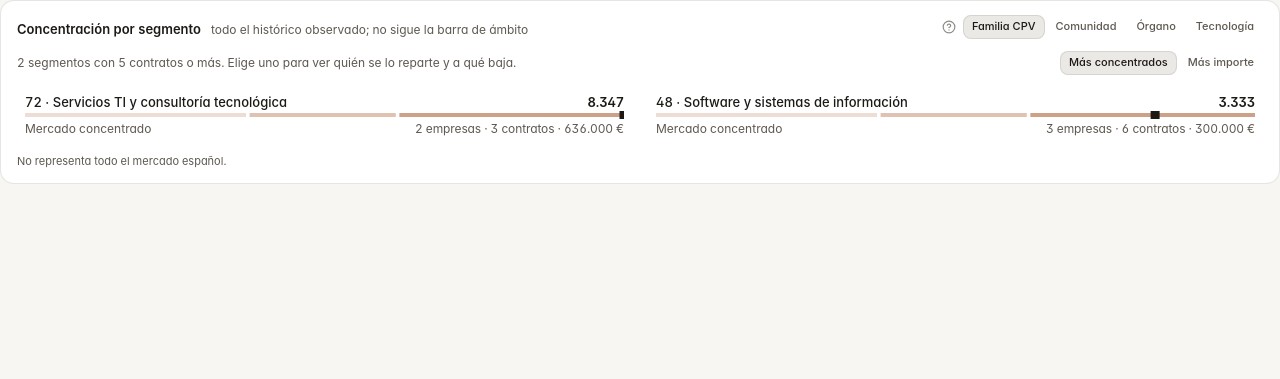
Test: Concentración por segmento › al elegir un segmento enseña quién se lo reparte y a qué baja se gana
The image size is (1280, 379).
Click the button "72 · Servicios TI" at (324, 115), box [17,87,632,143]
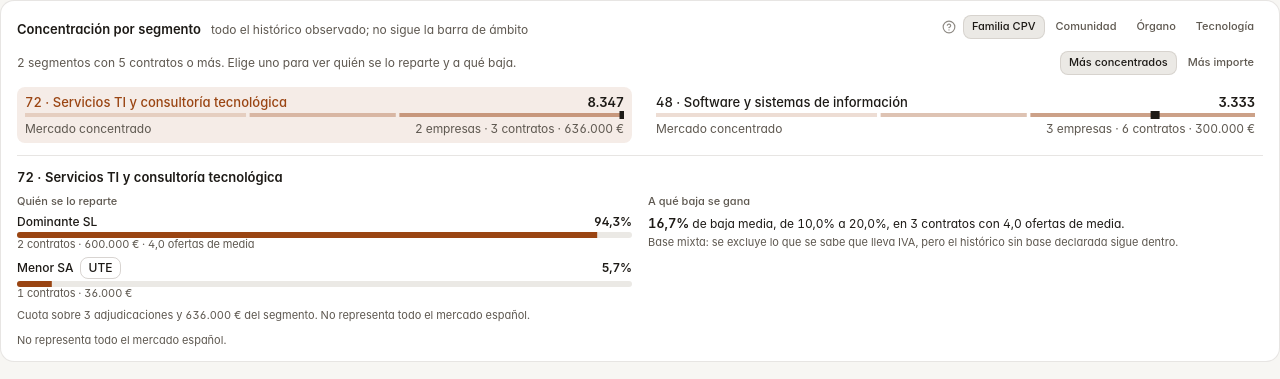
Expected: the text "94,3%" is shown, [594,214,632,230]
Expected: the text "UTE" is shown, [80,257,122,279]
Expected: the text "16,7%" is shown, [648,215,689,231]
